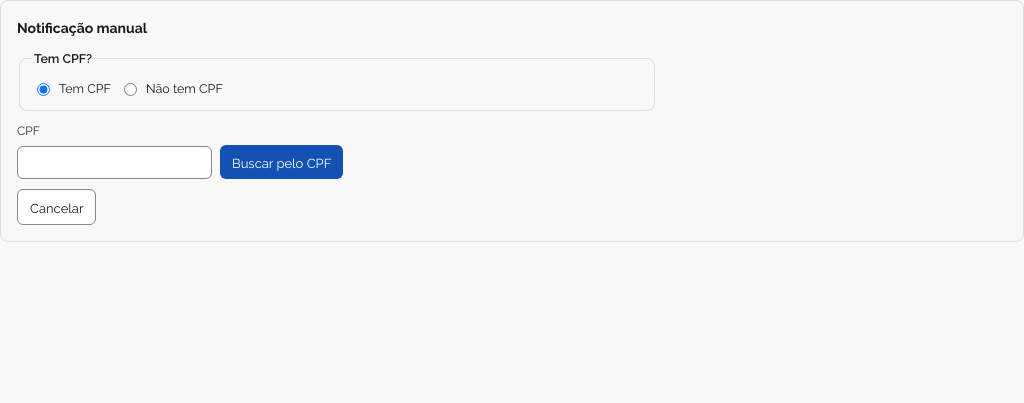
Test: ManualNotificationPanel › par validado manda citizen_id; todas as unidades ativas, não só as notificadoras; frases do contexto manual
The image size is (1024, 403).
Step 1. Type "52998224725" into the field labelled "CPF" → (114, 162), box [17, 146, 212, 179]
Step 2. Click the button "Buscar pelo CPF" → (282, 162), box [220, 145, 343, 179]
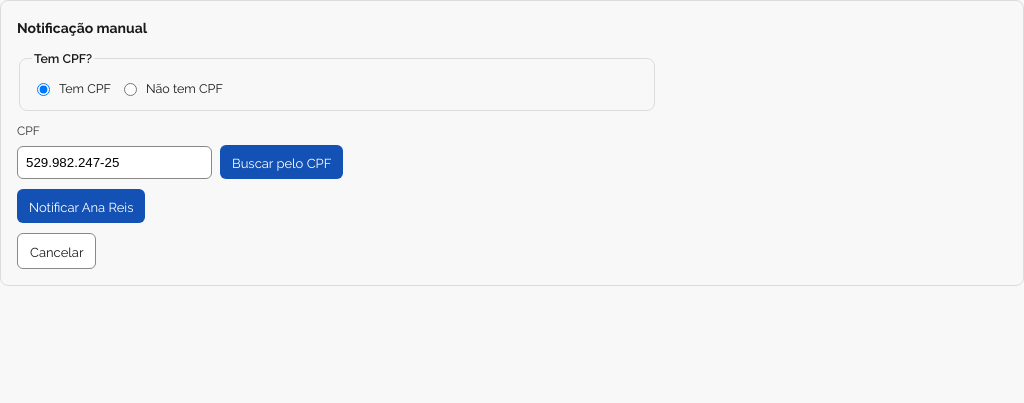
Step 3. Click the button "Notificar Ana Reis" → (81, 206), box [17, 189, 146, 223]
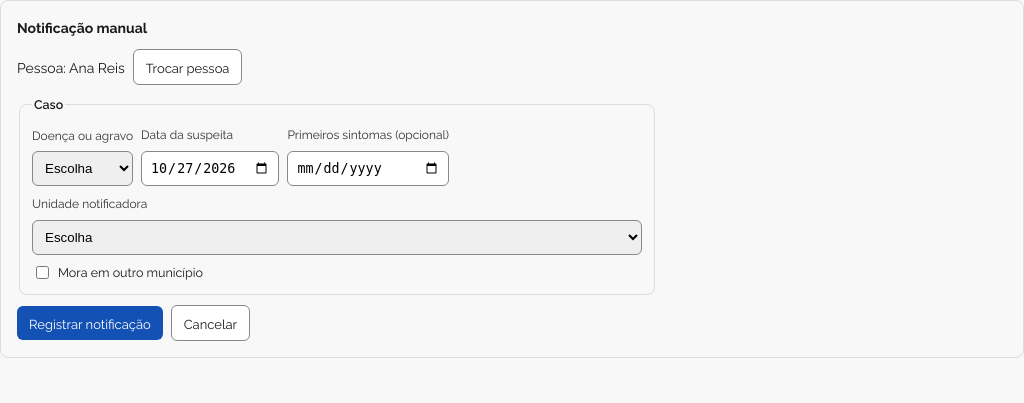
Step 4. Select "Sarampo" in the dropdown labelled "Doença ou agravo" → (82, 168), box [32, 151, 133, 186]
Step 5. Select "UBS Centro · CNES 2384299" in the dropdown labelled "Unidade notificadora" → (337, 237), box [32, 220, 642, 254]
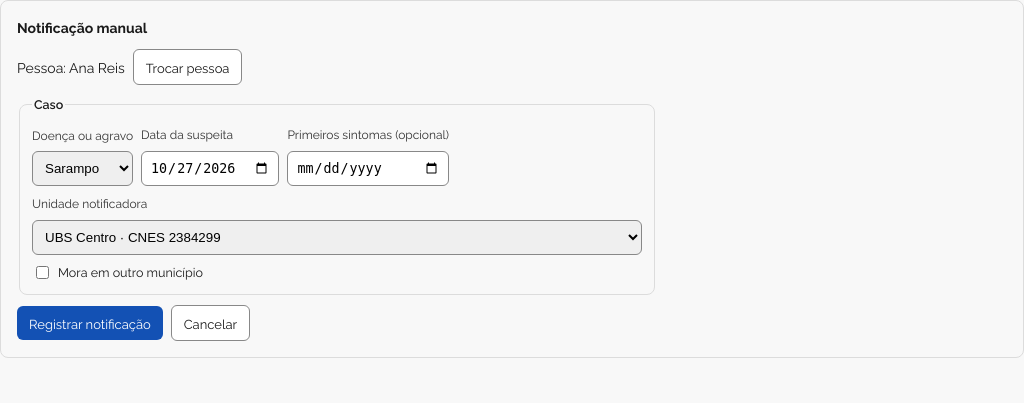
Step 6. Select "Policlínica" in the dropdown labelled "Unidade notificadora" → (337, 237), box [32, 220, 642, 254]
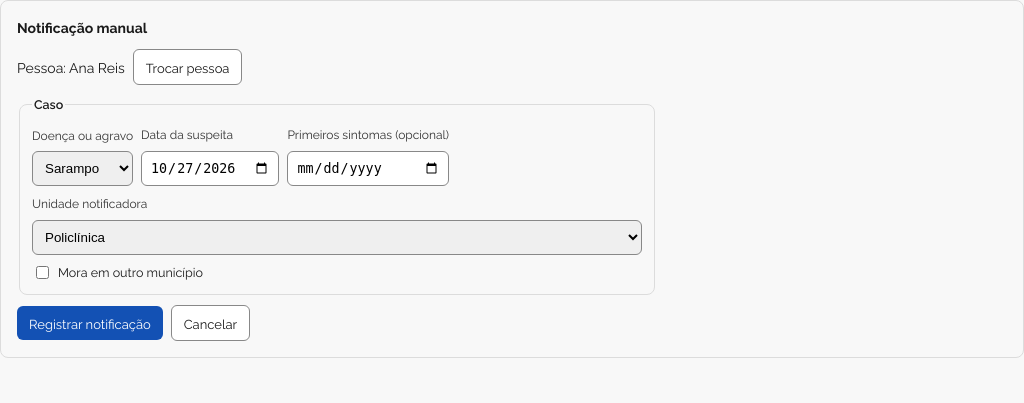
Step 7. Click the button "Registrar notificação" → (90, 322), box [17, 306, 163, 340]
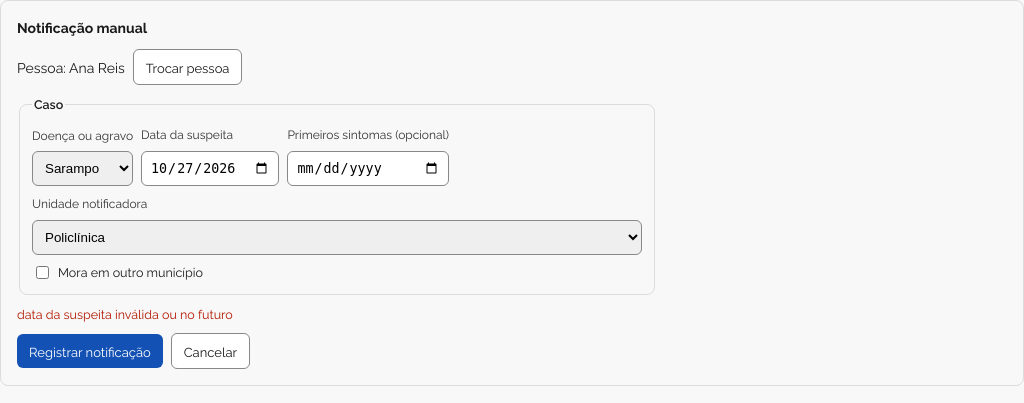
Expected: the message reads "data da suspeita inválida ou no futuro", [17, 304, 233, 322]
Step 8. Click the button "Registrar notificação" → (90, 351), box [17, 334, 163, 368]
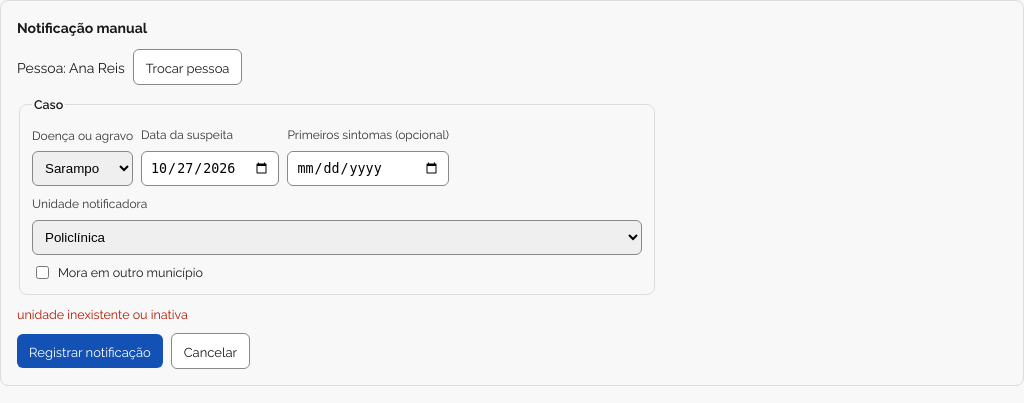
Expected: the message reads "unidade inexistente ou inativa", [17, 304, 188, 322]
